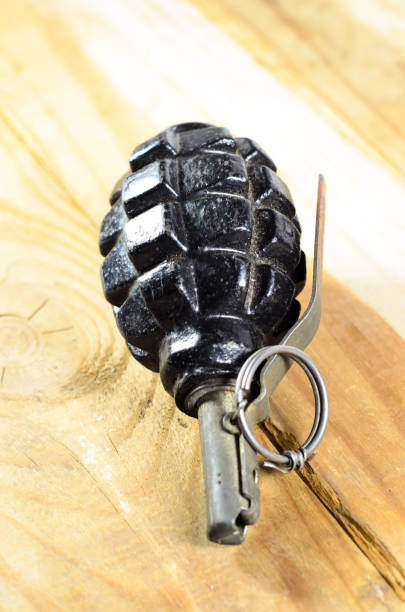e1: (99, 119, 342, 556)
